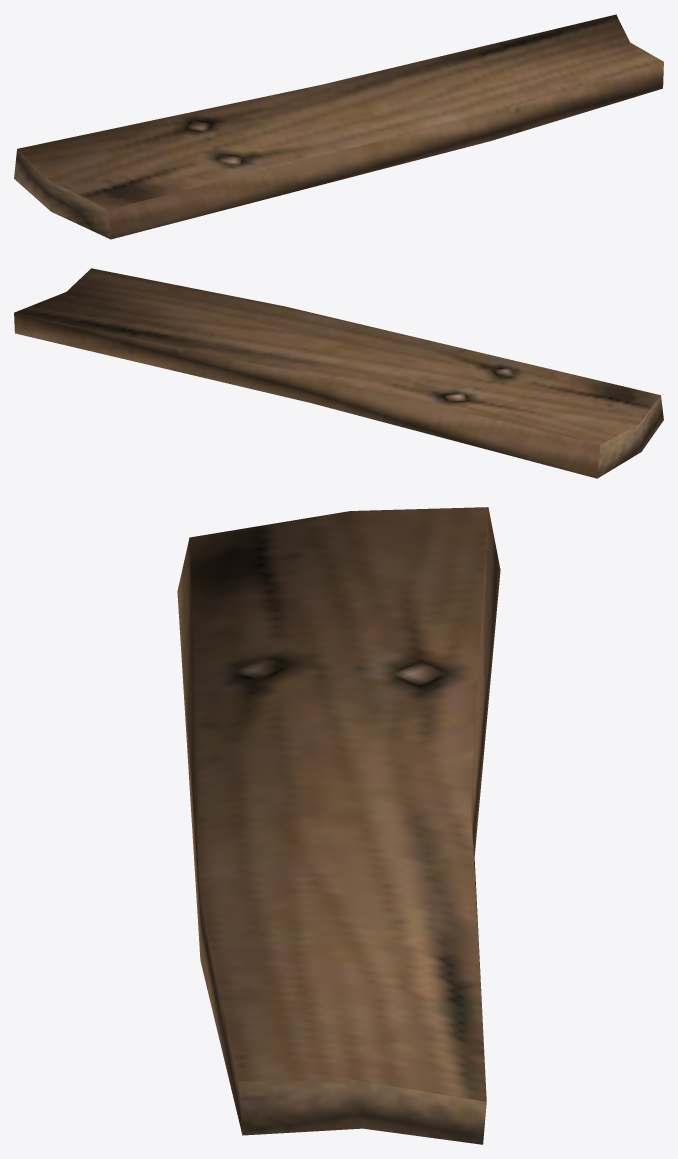
The model's file is stst161.dae.
The picture shows the model from 3 angles, top to bottom: view 1: azimuth 30°, elevation 25°; view 2: azimuth 150°, elevation 25°; view 3: azimuth 270°, elevation 25°; orthographic projection. The views are drawn at different scales.
Parts seen in each view (by area): view 1: board; view 2: board; view 3: board.
Part boxes in pixels (x1=…): board: x1=14, y1=14, x2=663, y2=239; board: x1=14, y1=268, x2=663, y2=478; board: x1=177, y1=507, x2=500, y2=1144.
Size of the model in its own units: 0.7429 by 0.176 by 0.0425.
1 material, 1 textured.
